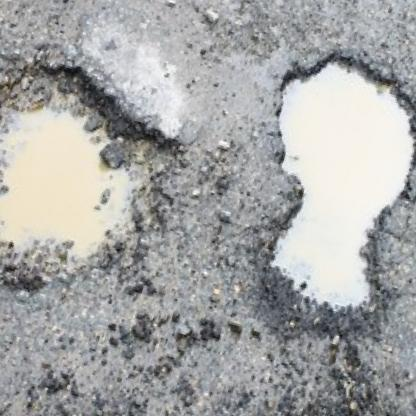pothole: (213, 28, 416, 352), (0, 27, 199, 331)
